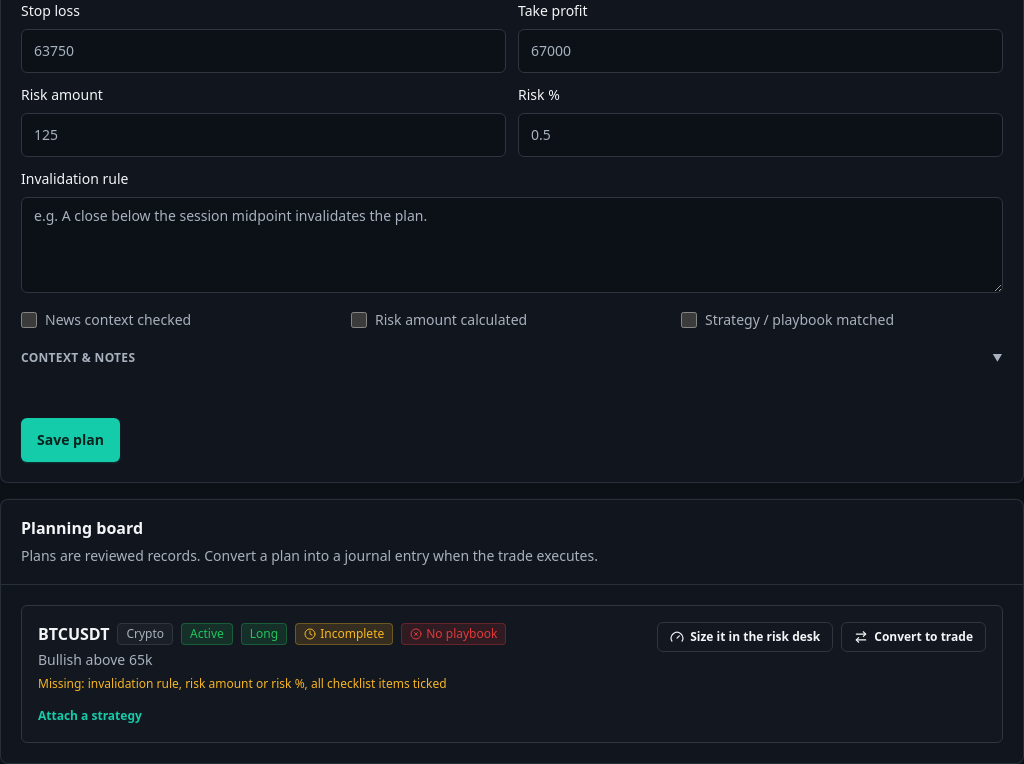
Test: a plan without a strategy can get one from the card › PATCHes the strategy with the plan's own status, then shows it on the card
The width and height of the screenshot is (1024, 764).
(page scrolled)
Expected: the text "BTCUSDT" is shown, [38, 622, 109, 646]
Click the button "Attach a strategy".
click(90, 716)  # box [38, 708, 142, 724]
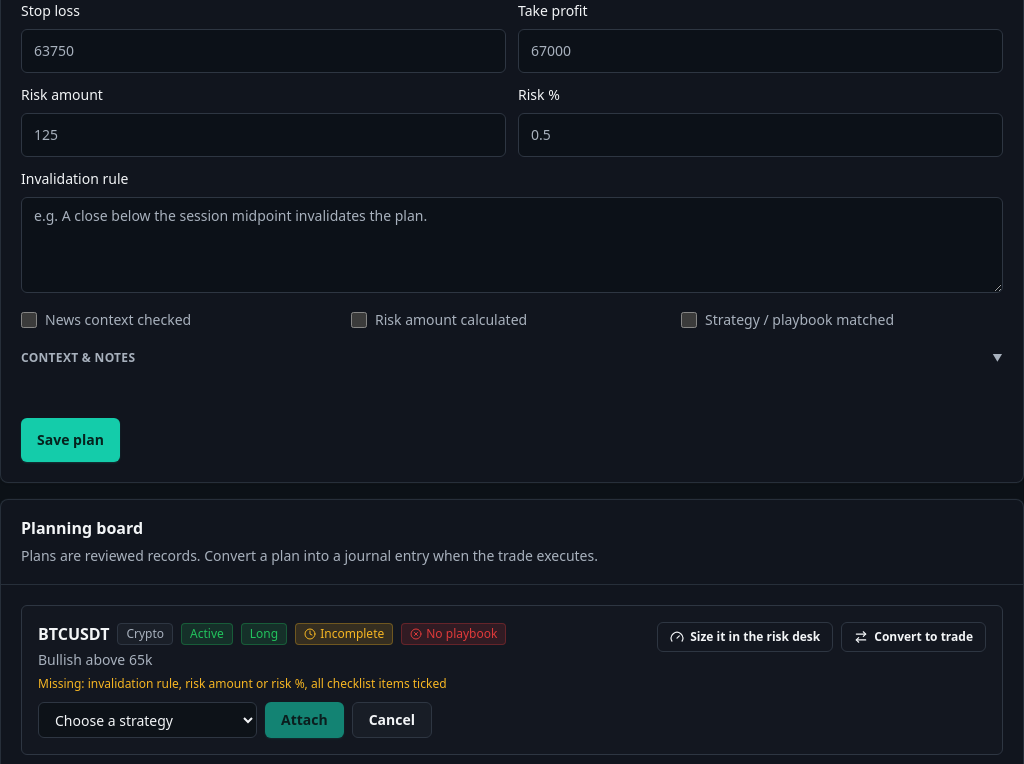
Select "Range fade" in the dropdown named "Strategy for BTCUSDT" at [148, 720], box [38, 702, 257, 738]
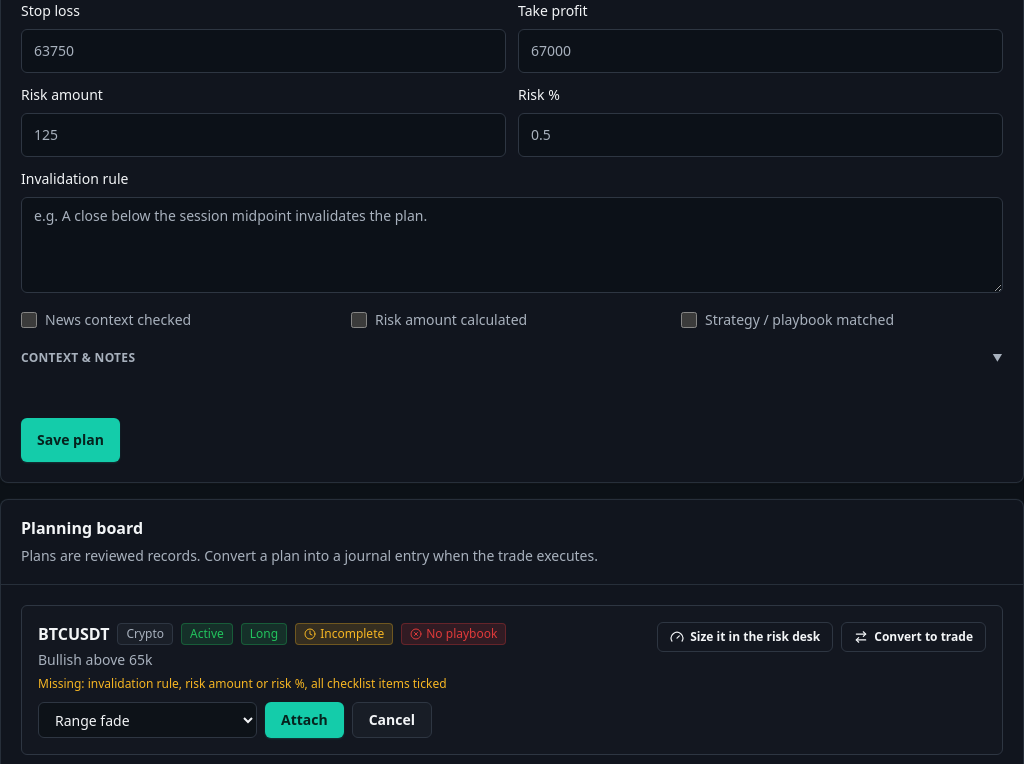
Click the button "Attach".
click(304, 720)  # box [265, 702, 344, 738]
(page scrolled)
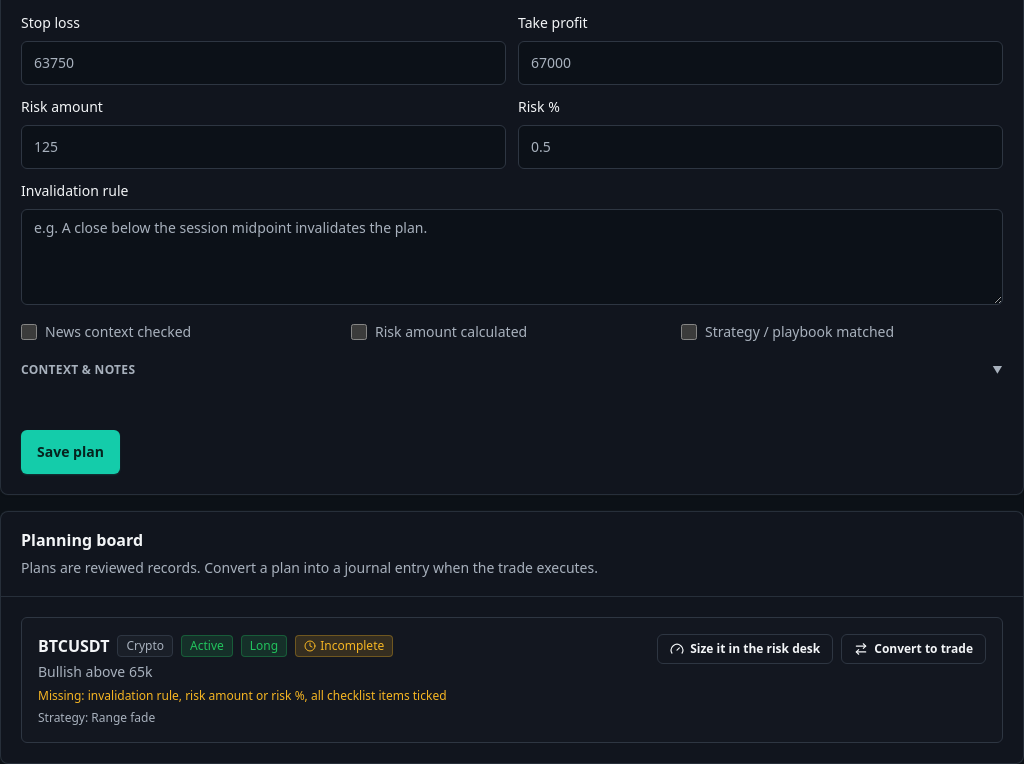
Expected: the button "Attach a strategy" is not shown
Expected: the text "BTCUSDT" shows "Strategy: Range fade", [38, 709, 155, 726]
Expected: the text "No playbook" is gone
